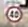limite 40: (5, 5, 22, 22)
